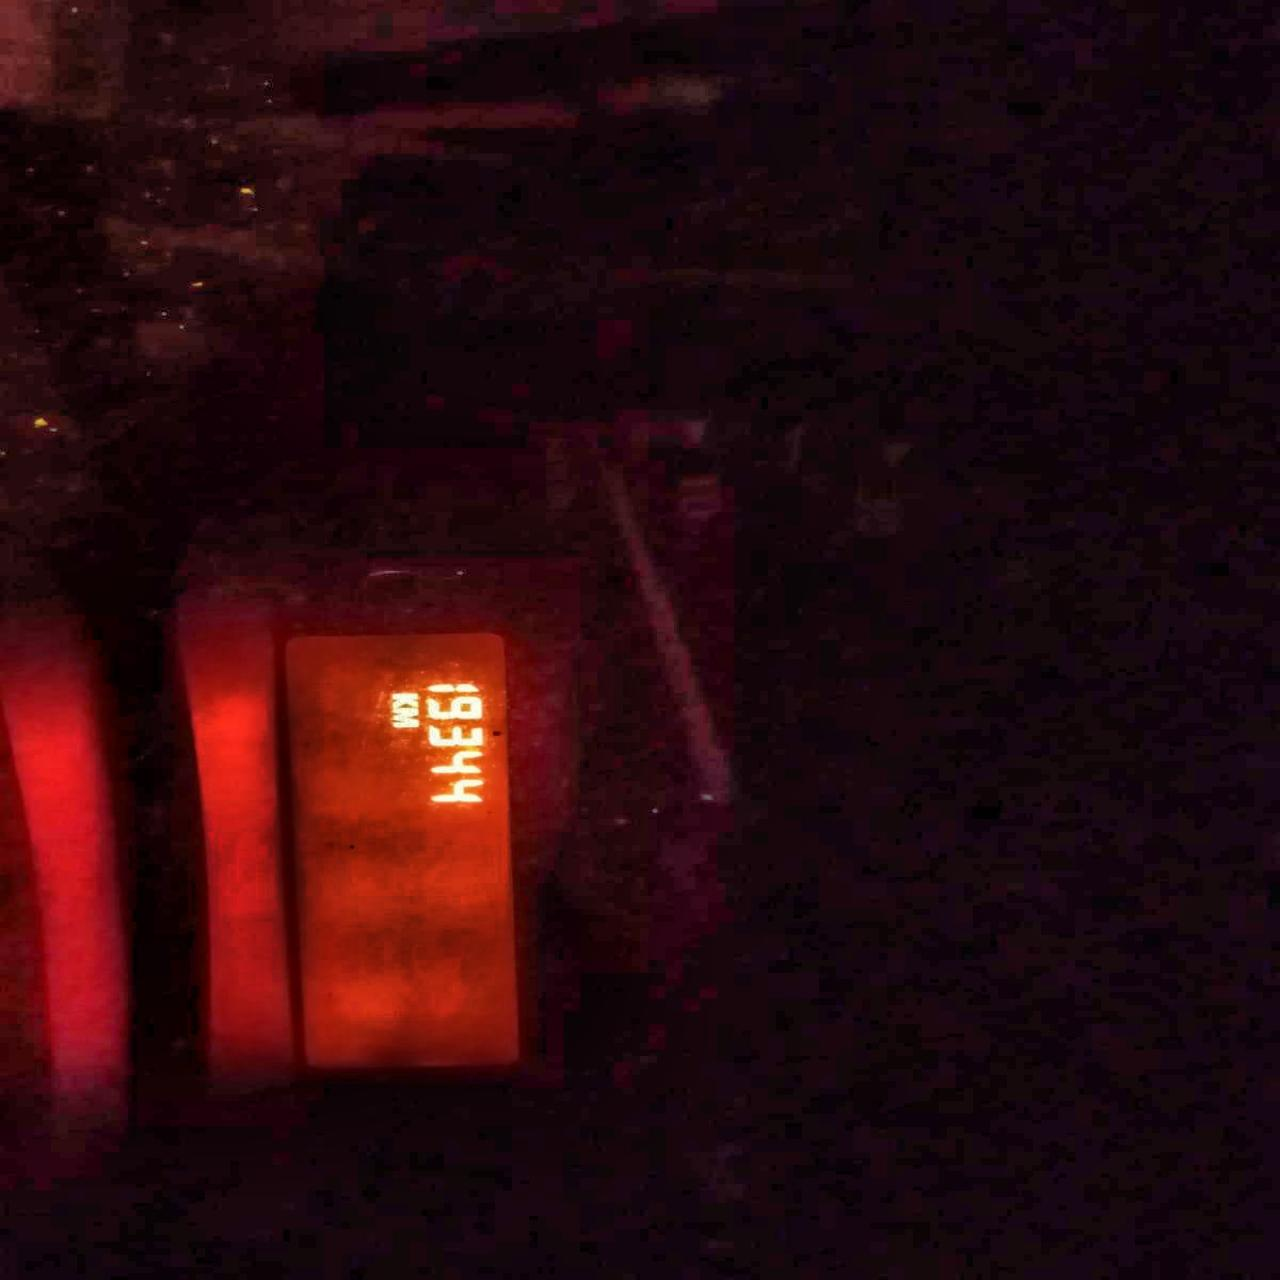1: (424, 680, 483, 695)
3: (423, 723, 484, 749)
4: (428, 776, 485, 805), (428, 750, 483, 776)
9: (424, 694, 483, 722)
X: (388, 708, 422, 728), (386, 692, 420, 709)
odometer: (278, 629, 524, 1077)
